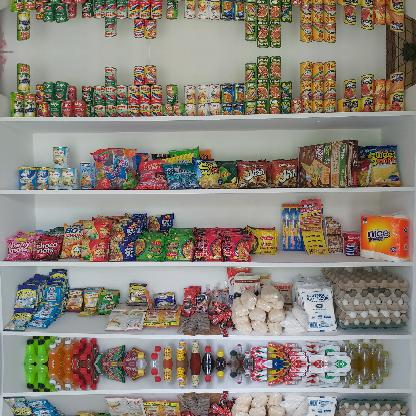Koko-Krunch: (298, 139, 358, 187)
